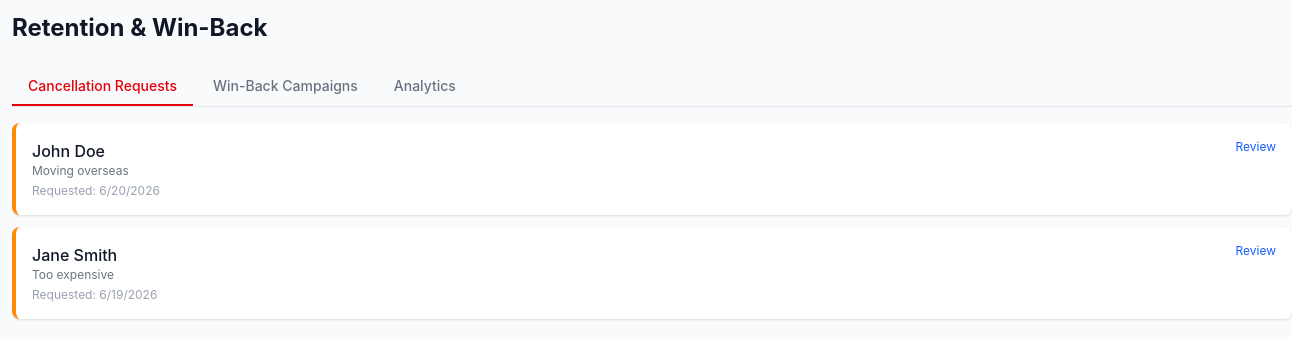
Scenario: Retention › Tab Navigation › switches to Win-Back tab
The width and height of the screenshot is (1292, 337).
Click the button "Win-Back Campaigns".
click(285, 87)  # box top-left (197, 68), bottom-right (374, 106)
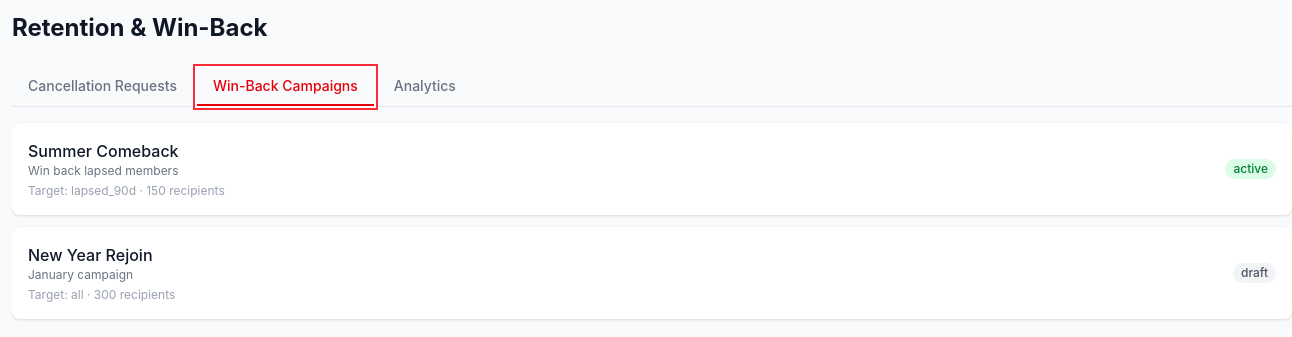
Expected: the text "Summer Comeback" is shown, top-left (28, 141), bottom-right (179, 161)
